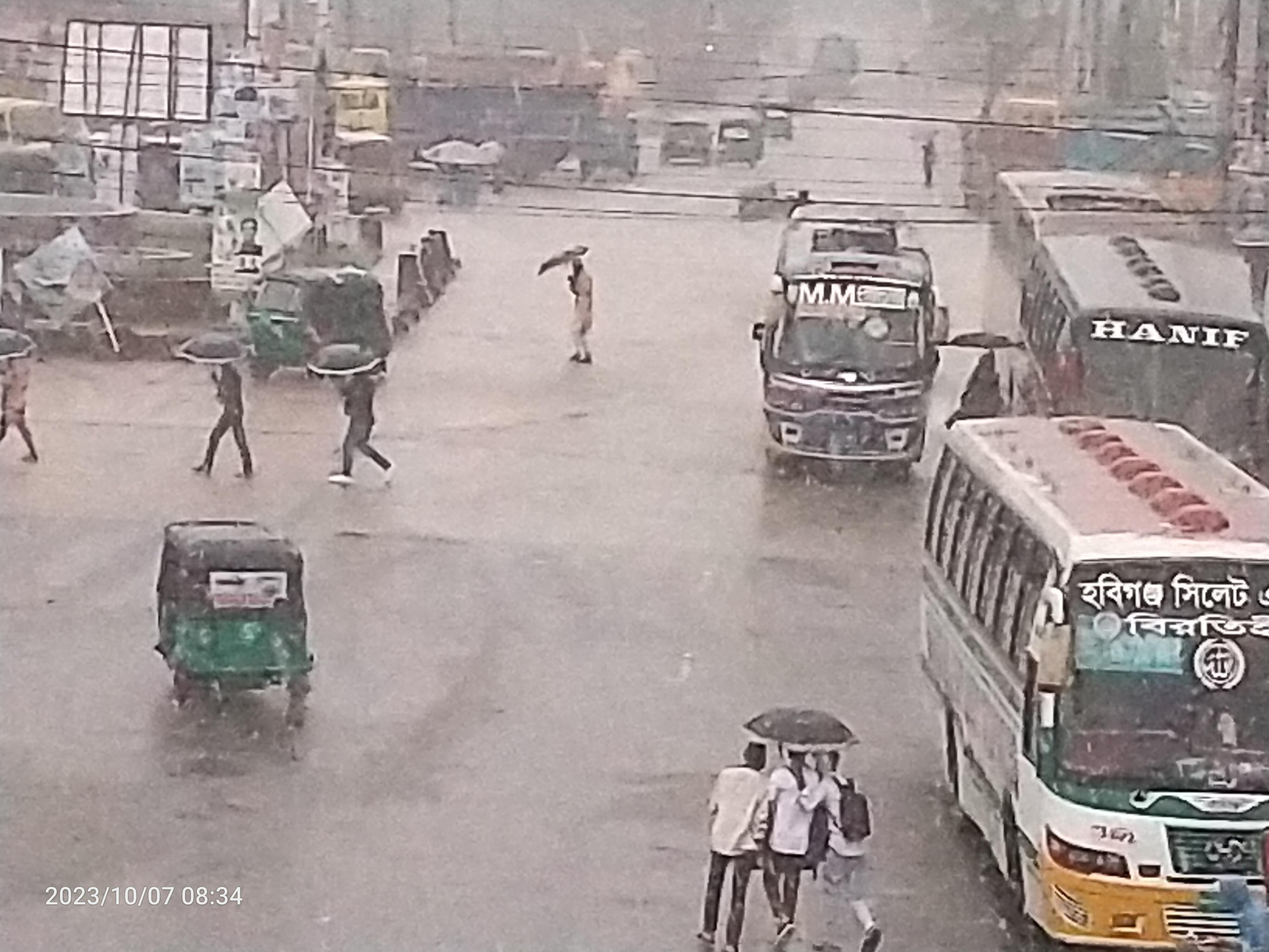Bus: (891, 396, 1269, 952), (996, 188, 1269, 501), (728, 213, 949, 497)
Truck: (311, 36, 600, 188)
